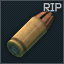9x19mm RIP: (0, 0, 64, 64)
